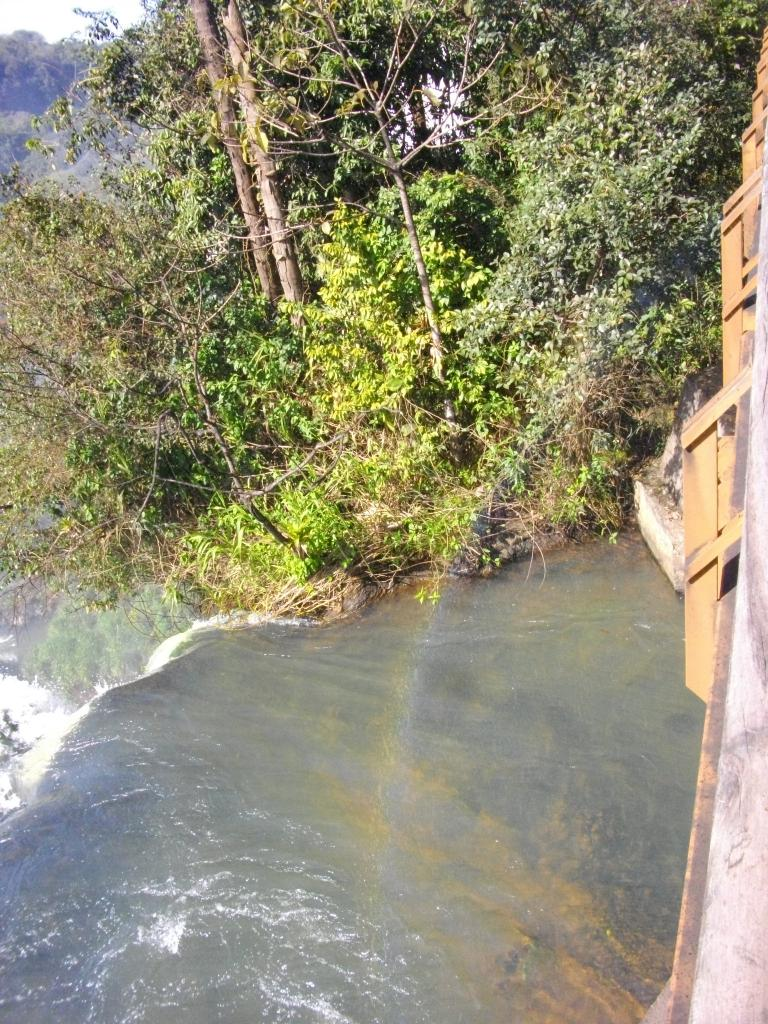Tree: (1, 0, 767, 611)
